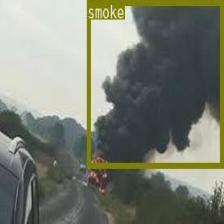smoke: (86, 0, 222, 167)
